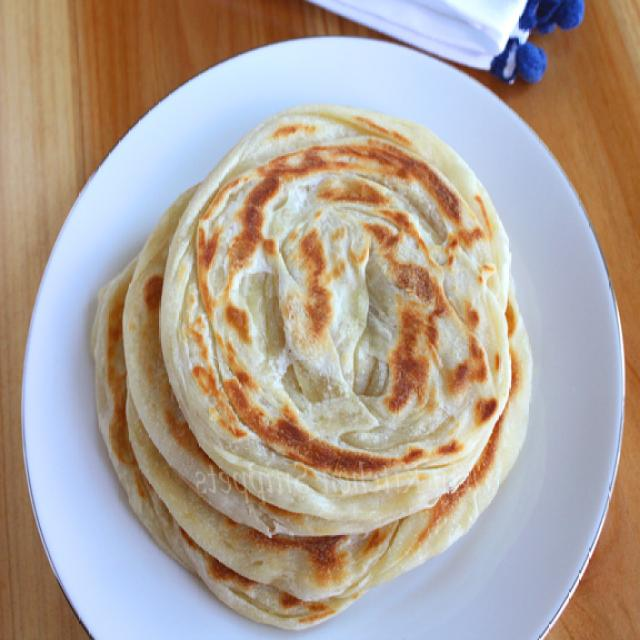Paratha: (84, 103, 536, 634)
